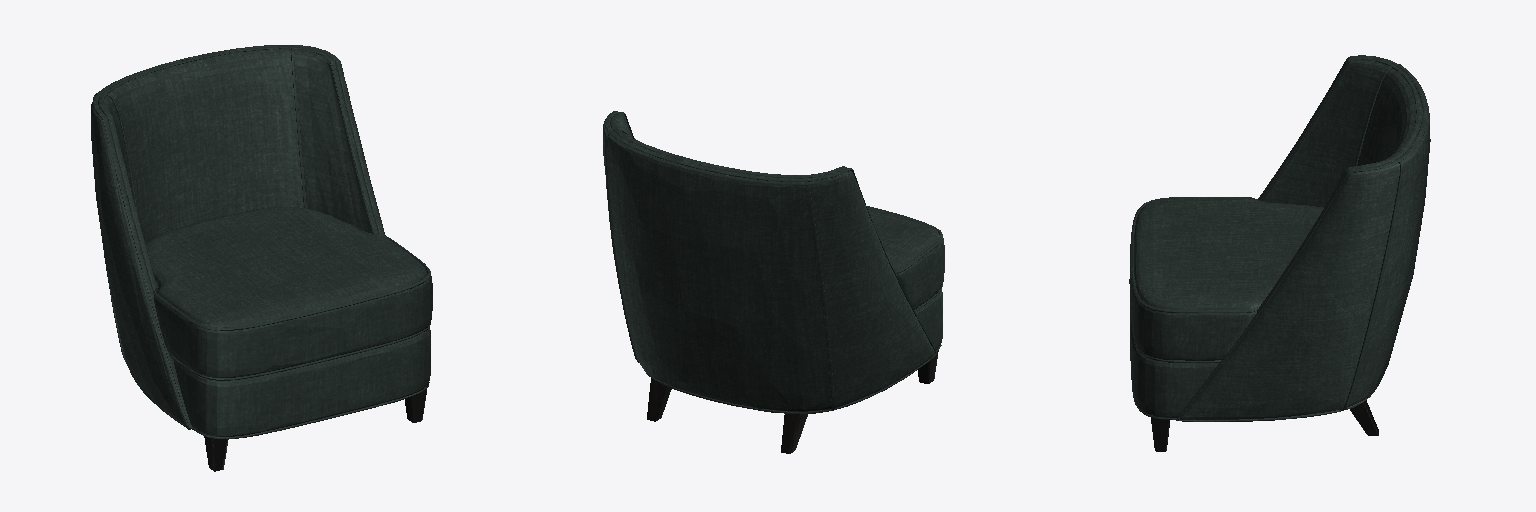
The picture shows the model from 3 angles: view 1: azimuth 30°, elevation 25°; view 2: azimuth 150°, elevation 25°; view 3: azimuth 270°, elevation 25°; orthographic projection.
Parts seen in each view (by area): view 1: solid_001, solid_002; view 2: solid_001, solid_002; view 3: solid_001, solid_002.
Part boxes in pixels (bbox=[...]): solid_001: bbox=[91, 45, 432, 438]; solid_002: bbox=[204, 389, 426, 471]; solid_001: bbox=[603, 111, 944, 413]; solid_002: bbox=[647, 350, 938, 453]; solid_001: bbox=[1129, 55, 1430, 421]; solid_002: bbox=[1151, 400, 1378, 451].
Size of the model in its own units: 0.7307 by 0.7987 by 0.7522.
1 materials, 1 textured.